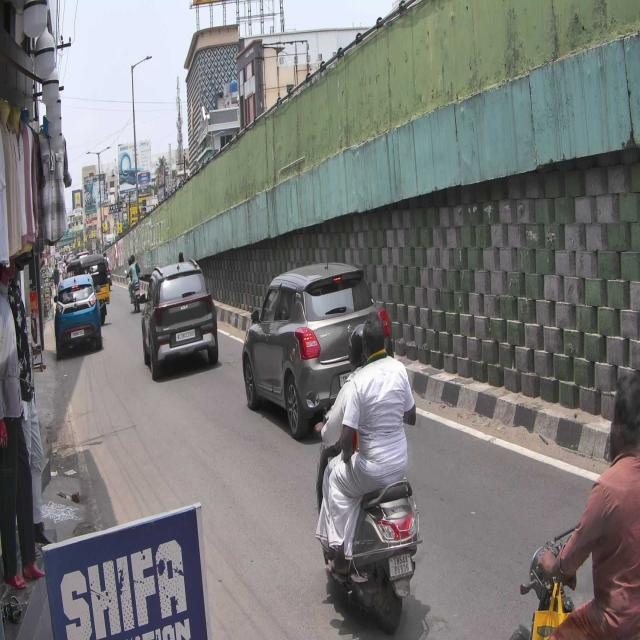double_rider: (311, 307, 421, 635)
